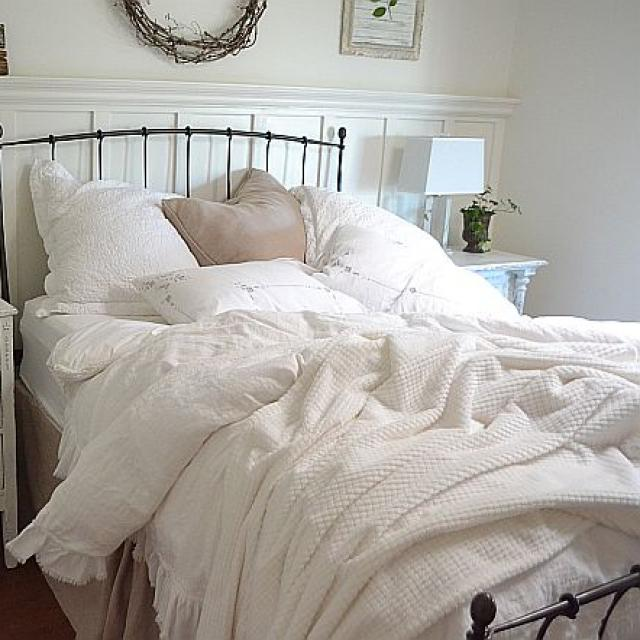bed: (7, 150, 640, 640)
